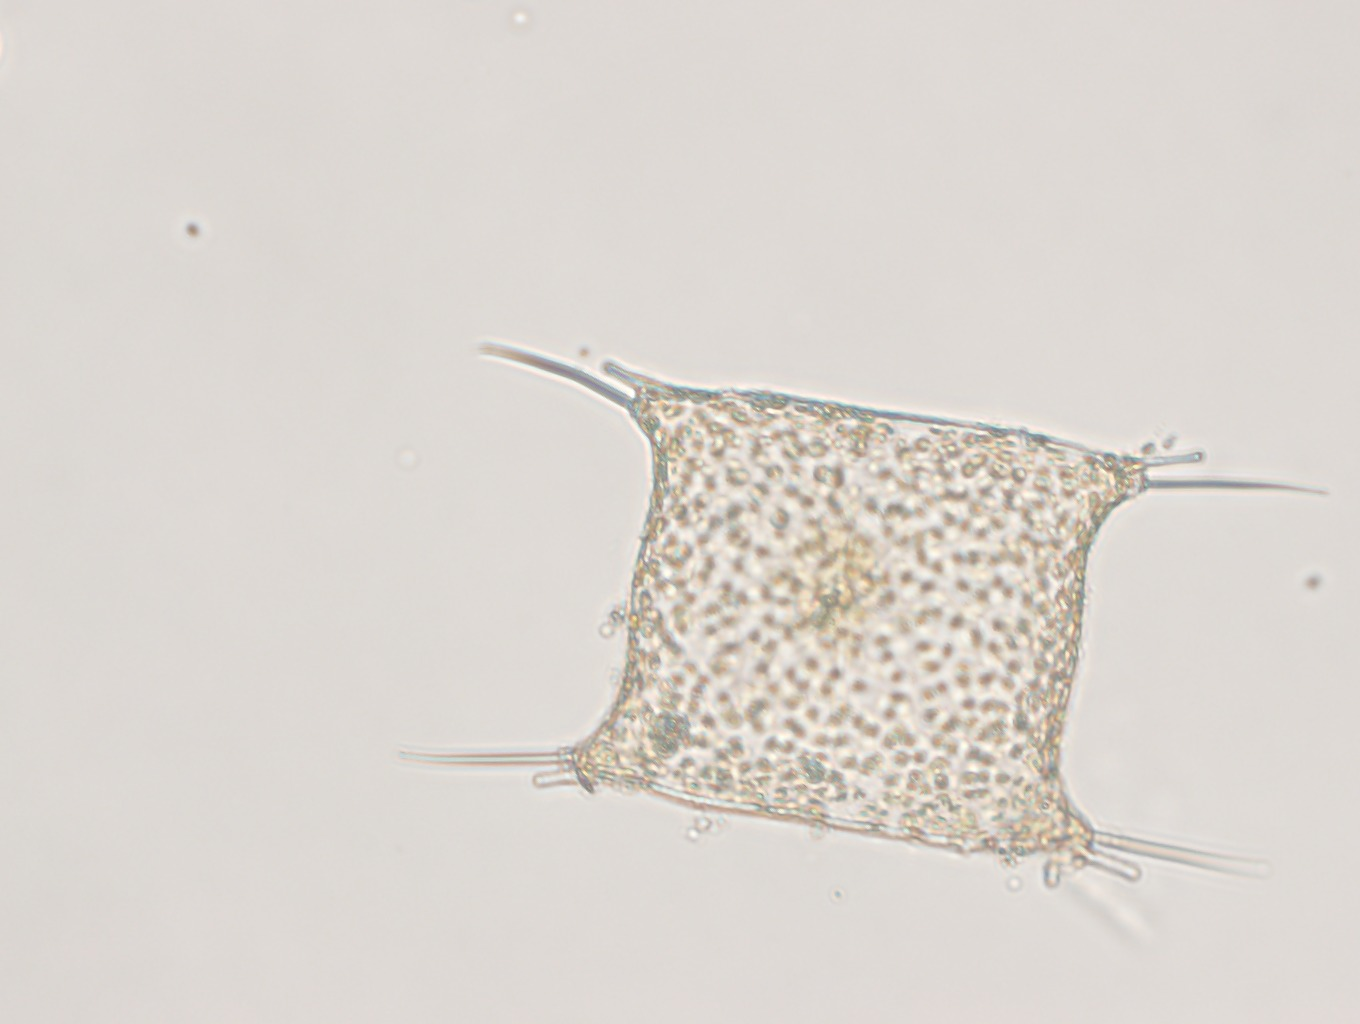biddulphia: (388, 336, 1329, 880)
